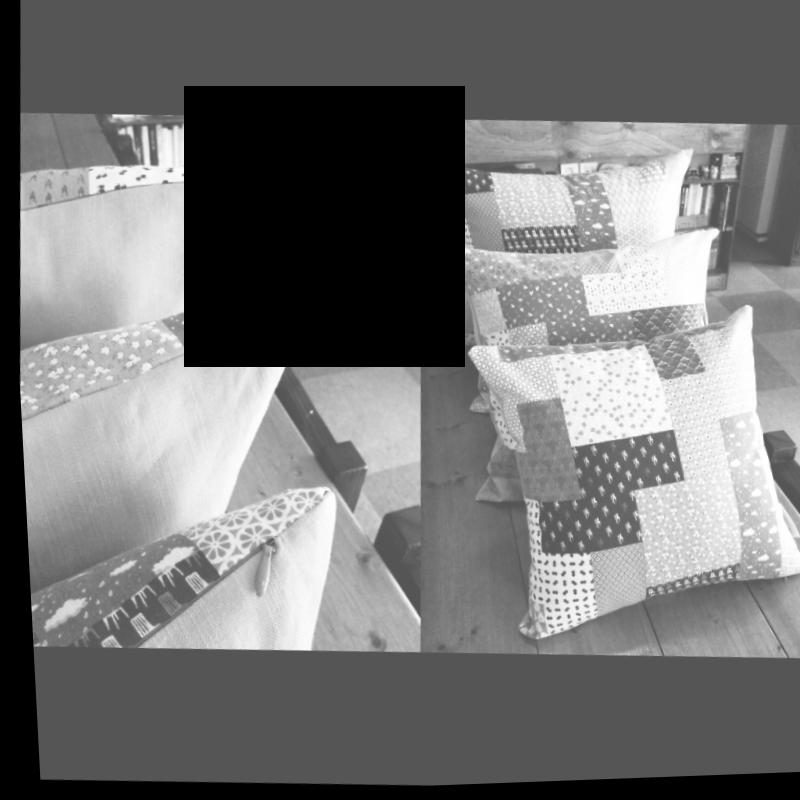pillow: (12, 281, 327, 622), (420, 219, 728, 520), (404, 135, 702, 435), (20, 478, 340, 660), (9, 163, 286, 369), (419, 227, 476, 351)
